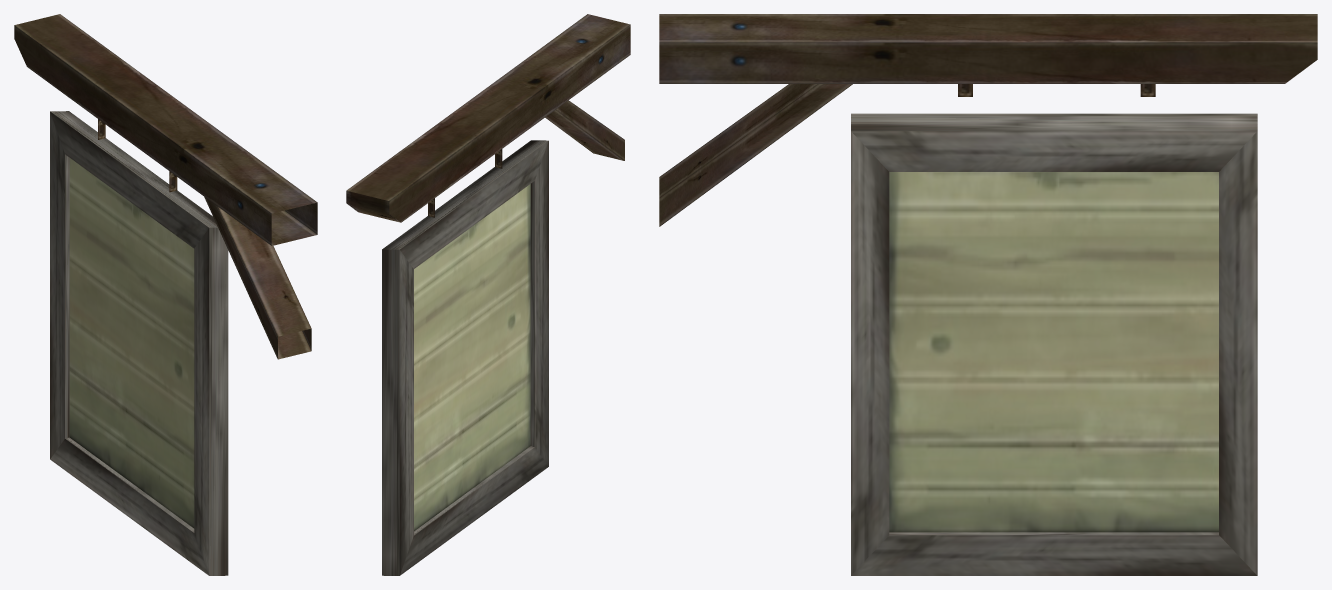
File: sign1_spanish_b_frame.fbx
The picture shows the model from 3 angles, left to right: view 1: azimuth 30°, elevation 25°; view 2: azimuth 150°, elevation 25°; view 3: azimuth 270°, elevation 25°; orthographic projection. The views are drawn at different scales.
Parts seen in each view (by area): view 1: sign, support_horizontal, support_diagonal; view 2: sign, support_horizontal, support_diagonal; view 3: sign, support_horizontal, support_diagonal.
Boxes of the visible parts, <box> form: sign: <box>50,111,228,575</box>; support_horizontal: <box>14,14,317,245</box>; support_diagonal: <box>204,197,311,359</box>; sign: <box>382,140,548,575</box>; support_horizontal: <box>346,14,630,222</box>; support_diagonal: <box>545,100,624,160</box>; sign: <box>851,113,1257,575</box>; support_horizontal: <box>659,14,1317,83</box>; support_diagonal: <box>659,84,852,226</box>.
Size of the model in its own units: 64.52 by 570 by 627.
2 materials, 2 textured.
